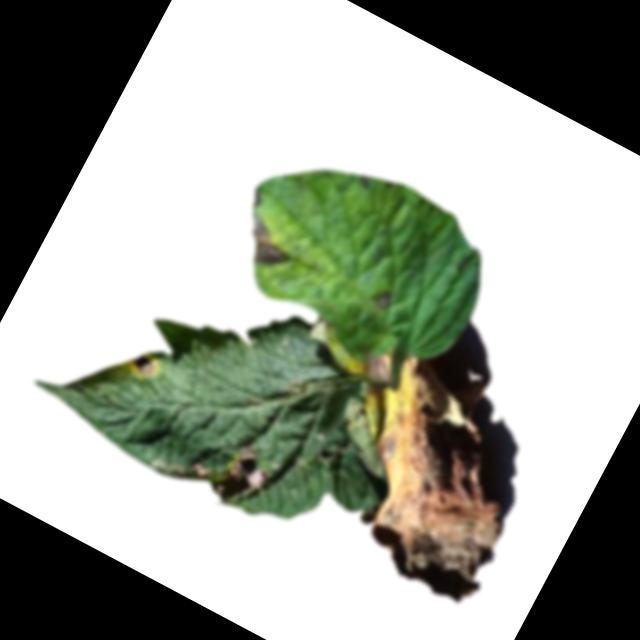Early_blight: (285, 339, 565, 614), (202, 435, 277, 515), (233, 211, 308, 281), (128, 347, 165, 384), (372, 284, 397, 312)
